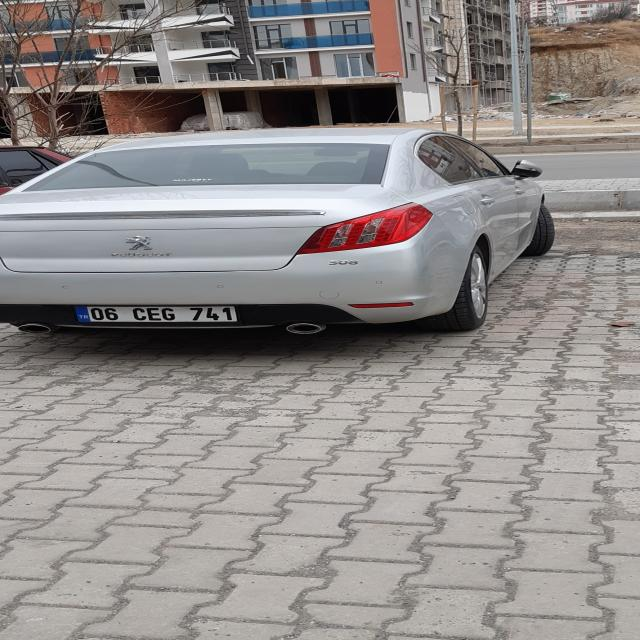license_plate: (72, 306, 238, 322)
